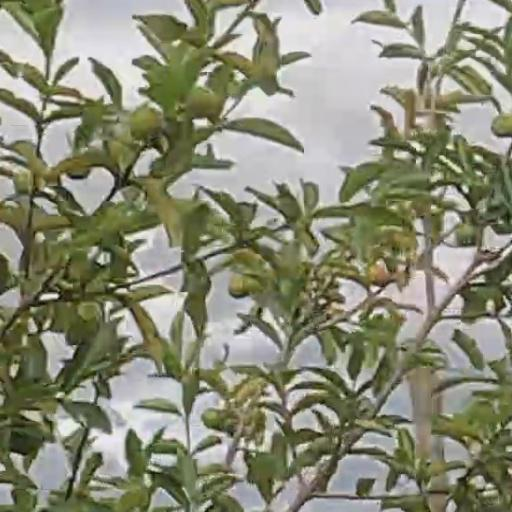acerola_verde: (132, 108, 163, 137), (192, 89, 219, 116)
